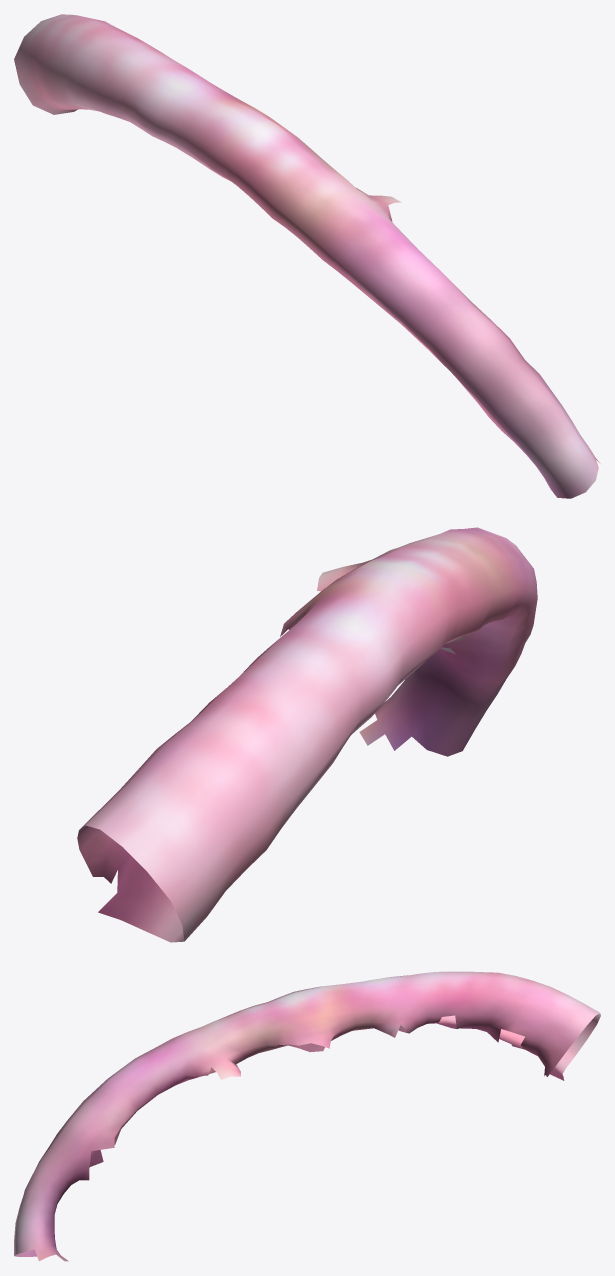
File: caudatebody.obj
3 views of the same model, one above another, from view 1: azimuth 30°, elevation 25°; view 2: azimuth 150°, elevation 25°; view 3: azimuth 270°, elevation 25° (orthographic). The views are drawn at different scales.
Parts seen in each view (by area): view 1: Caudatebody; view 2: Caudatebody; view 3: Caudatebody.
Part boxes in pixels (bbox=[...]): Caudatebody: bbox=[14, 14, 600, 498]; Caudatebody: bbox=[77, 527, 537, 942]; Caudatebody: bbox=[14, 971, 600, 1261].
Size of the model in its own units: 205 by 235 by 557.
1 material, 1 textured.
